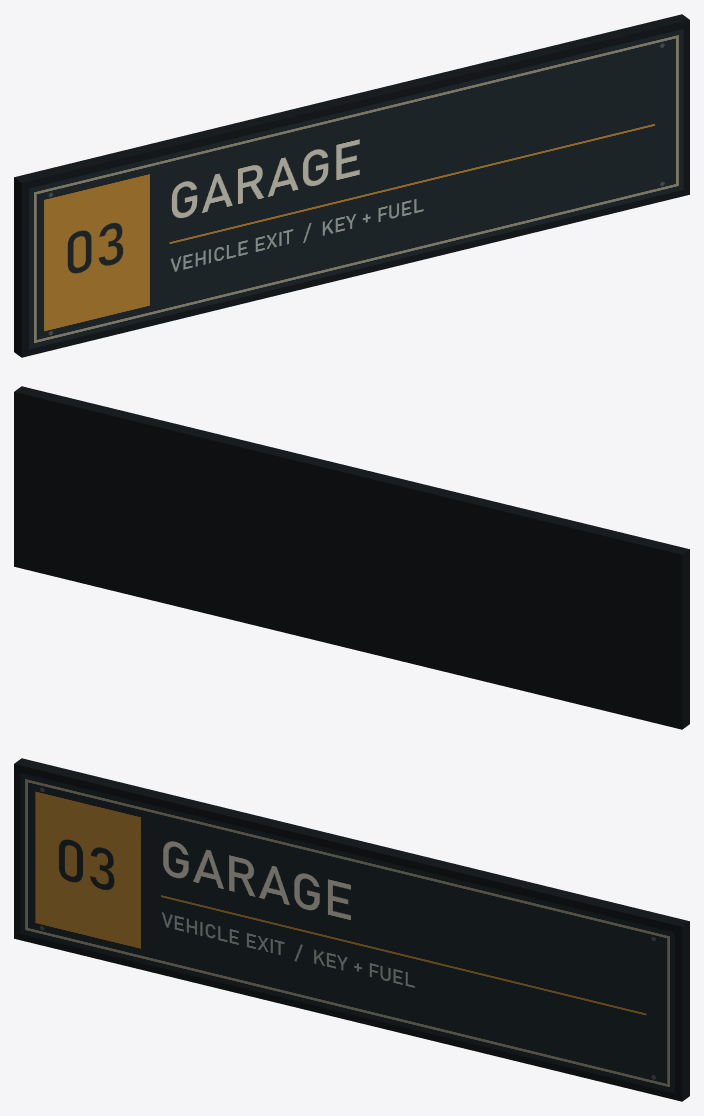
Rendered from GarageSign.obj.
The picture shows the model from 3 angles, top to bottom: view 1: azimuth 30°, elevation 25°; view 2: azimuth 150°, elevation 25°; view 3: azimuth 330°, elevation 25°; orthographic projection.
Visible parts, largest first — view 1: GarageSign; view 2: GarageSign; view 3: GarageSign.
Part boxes in pixels (bbox=[...]): GarageSign: bbox=[14, 14, 689, 357]; GarageSign: bbox=[14, 386, 689, 729]; GarageSign: bbox=[14, 758, 689, 1101].
Size of the model in its own units: 4 by 1 by 0.085.
Materials: 2 (1 with a texture image).
